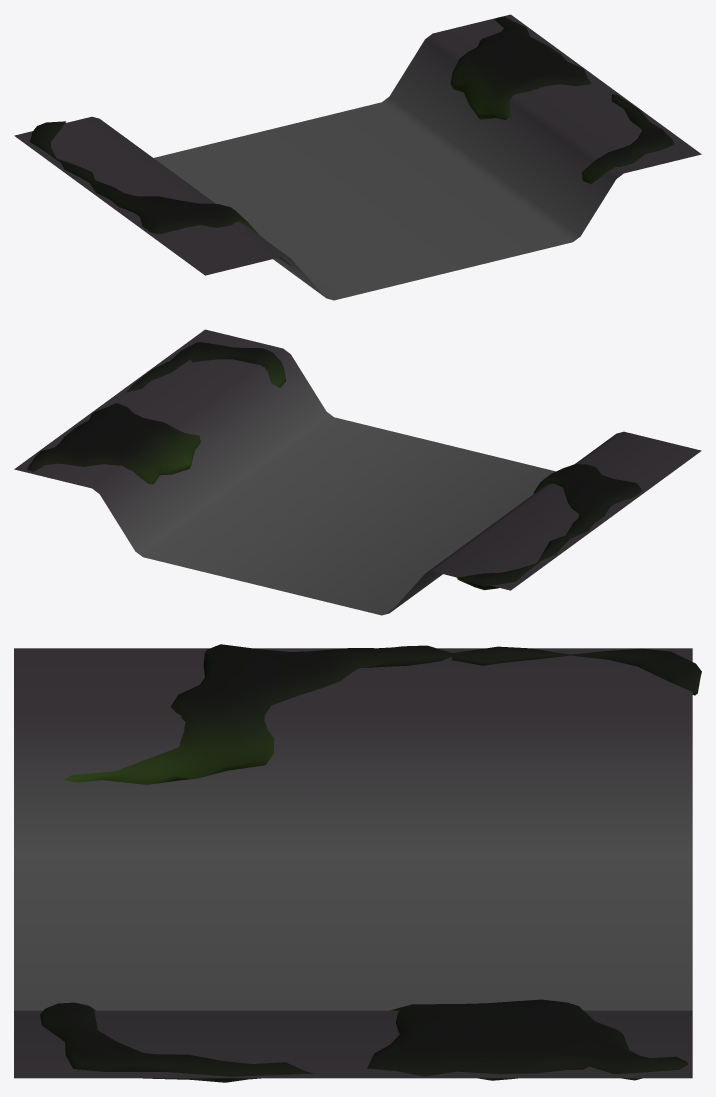
The model's file is SM_Sewer_Ground_02.fbx.
The picture shows the model from 3 angles, top to bottom: view 1: azimuth 30°, elevation 25°; view 2: azimuth 150°, elevation 25°; view 3: azimuth 270°, elevation 25°; orthographic projection. The views are drawn at different scales.
Parts seen in each view (by area): view 1: transform10; view 2: transform10; view 3: transform10.
Part boxes in pixels (bbox=[...]): transform10: bbox=[14, 14, 701, 300]; transform10: bbox=[14, 329, 701, 615]; transform10: bbox=[14, 644, 701, 1082].
Bounding box in the file's own units: 600 × 74.06 × 406.
